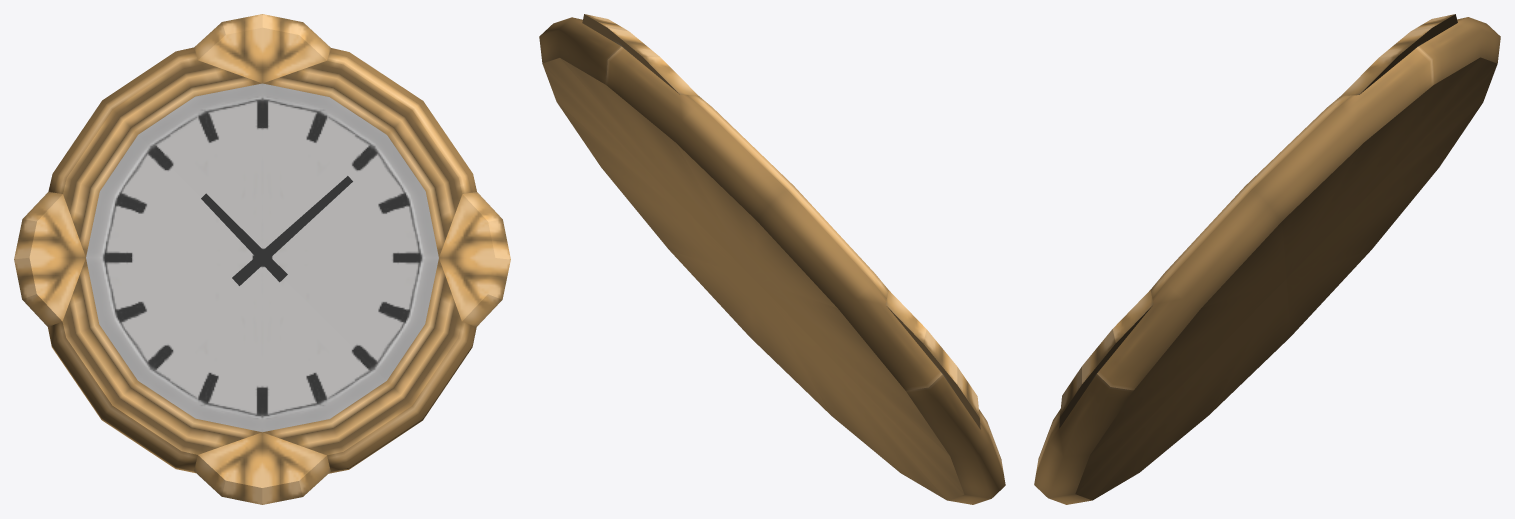
The model's file is TianZhuJiaoTang_01_shiyingzhong_01.FBX.
3 renders of one model, left to right at view 1: azimuth 30°, elevation 25°; view 2: azimuth 150°, elevation 25°; view 3: azimuth 270°, elevation 25°, orthographic. The views are drawn at different scales.
Visible parts, largest first — view 1: TianZhuJiaoTang_01_shiyingzhong_01; view 2: TianZhuJiaoTang_01_shiyingzhong_01; view 3: TianZhuJiaoTang_01_shiyingzhong_01.
Boxes of the visible parts, x1,y1,x2,y2 form: TianZhuJiaoTang_01_shiyingzhong_01: (14,14,510,504); TianZhuJiaoTang_01_shiyingzhong_01: (539,14,1005,504); TianZhuJiaoTang_01_shiyingzhong_01: (1034,14,1500,504).
Size of the model in its own units: 175 by 165 by 130.
